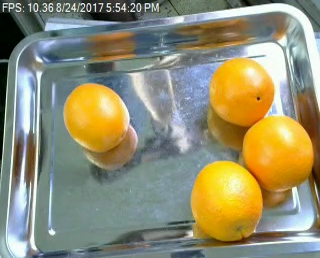Orange: (191, 161, 263, 242), (242, 115, 313, 190), (63, 81, 130, 151), (210, 57, 274, 125)
